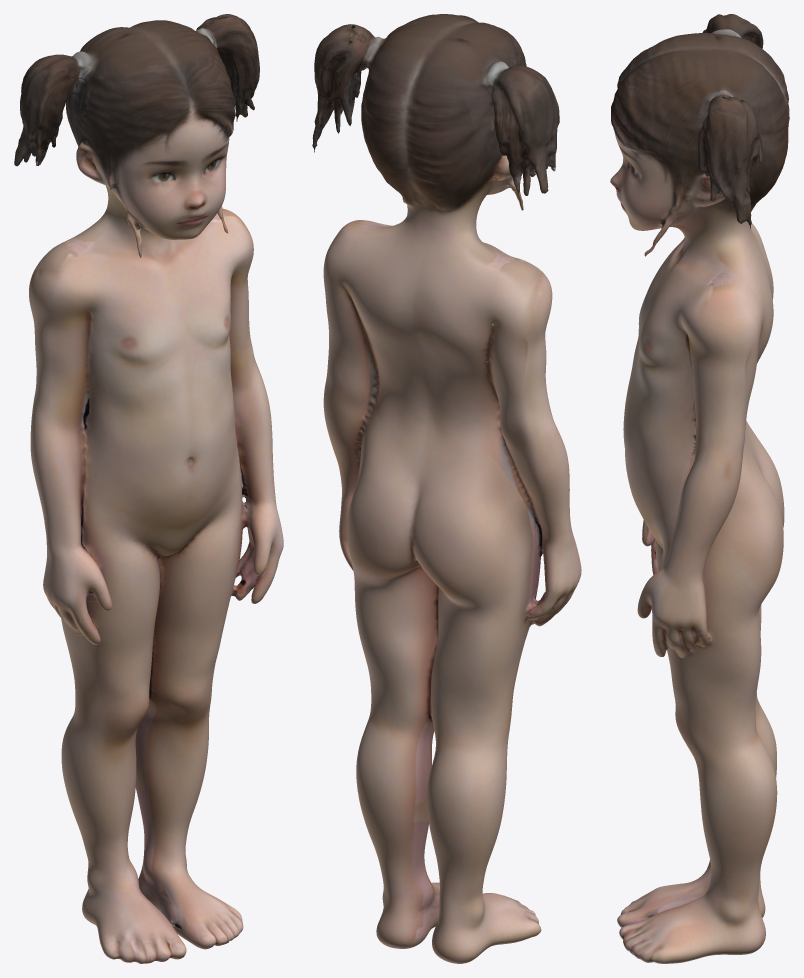
Rendered from simplegirl.glb.
3 renders of one model, left to right at view 1: azimuth 30°, elevation 25°; view 2: azimuth 150°, elevation 25°; view 3: azimuth 270°, elevation 25°, orthographic. The views are drawn at different scales.
Size of the model in its own units: 0.5477 by 2 by 0.3656.
Materials: 1 (1 with a texture image).
